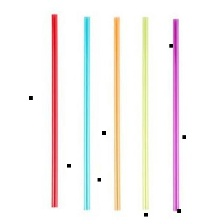drinking_straw: (166, 12, 186, 214), (108, 11, 126, 212), (137, 11, 153, 213), (47, 10, 62, 211), (79, 12, 93, 213)
